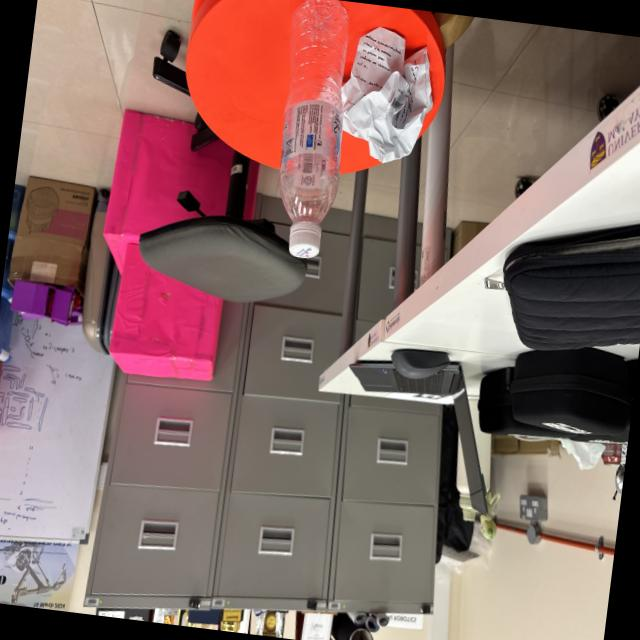crumpled_paper: (328, 12, 446, 176)
plastic_bottle: (257, 0, 365, 273)
